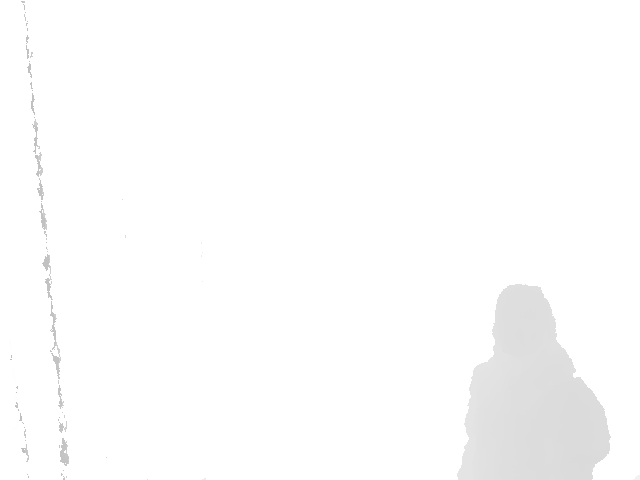head: (492, 284, 560, 355)
person: (457, 284, 612, 480)
